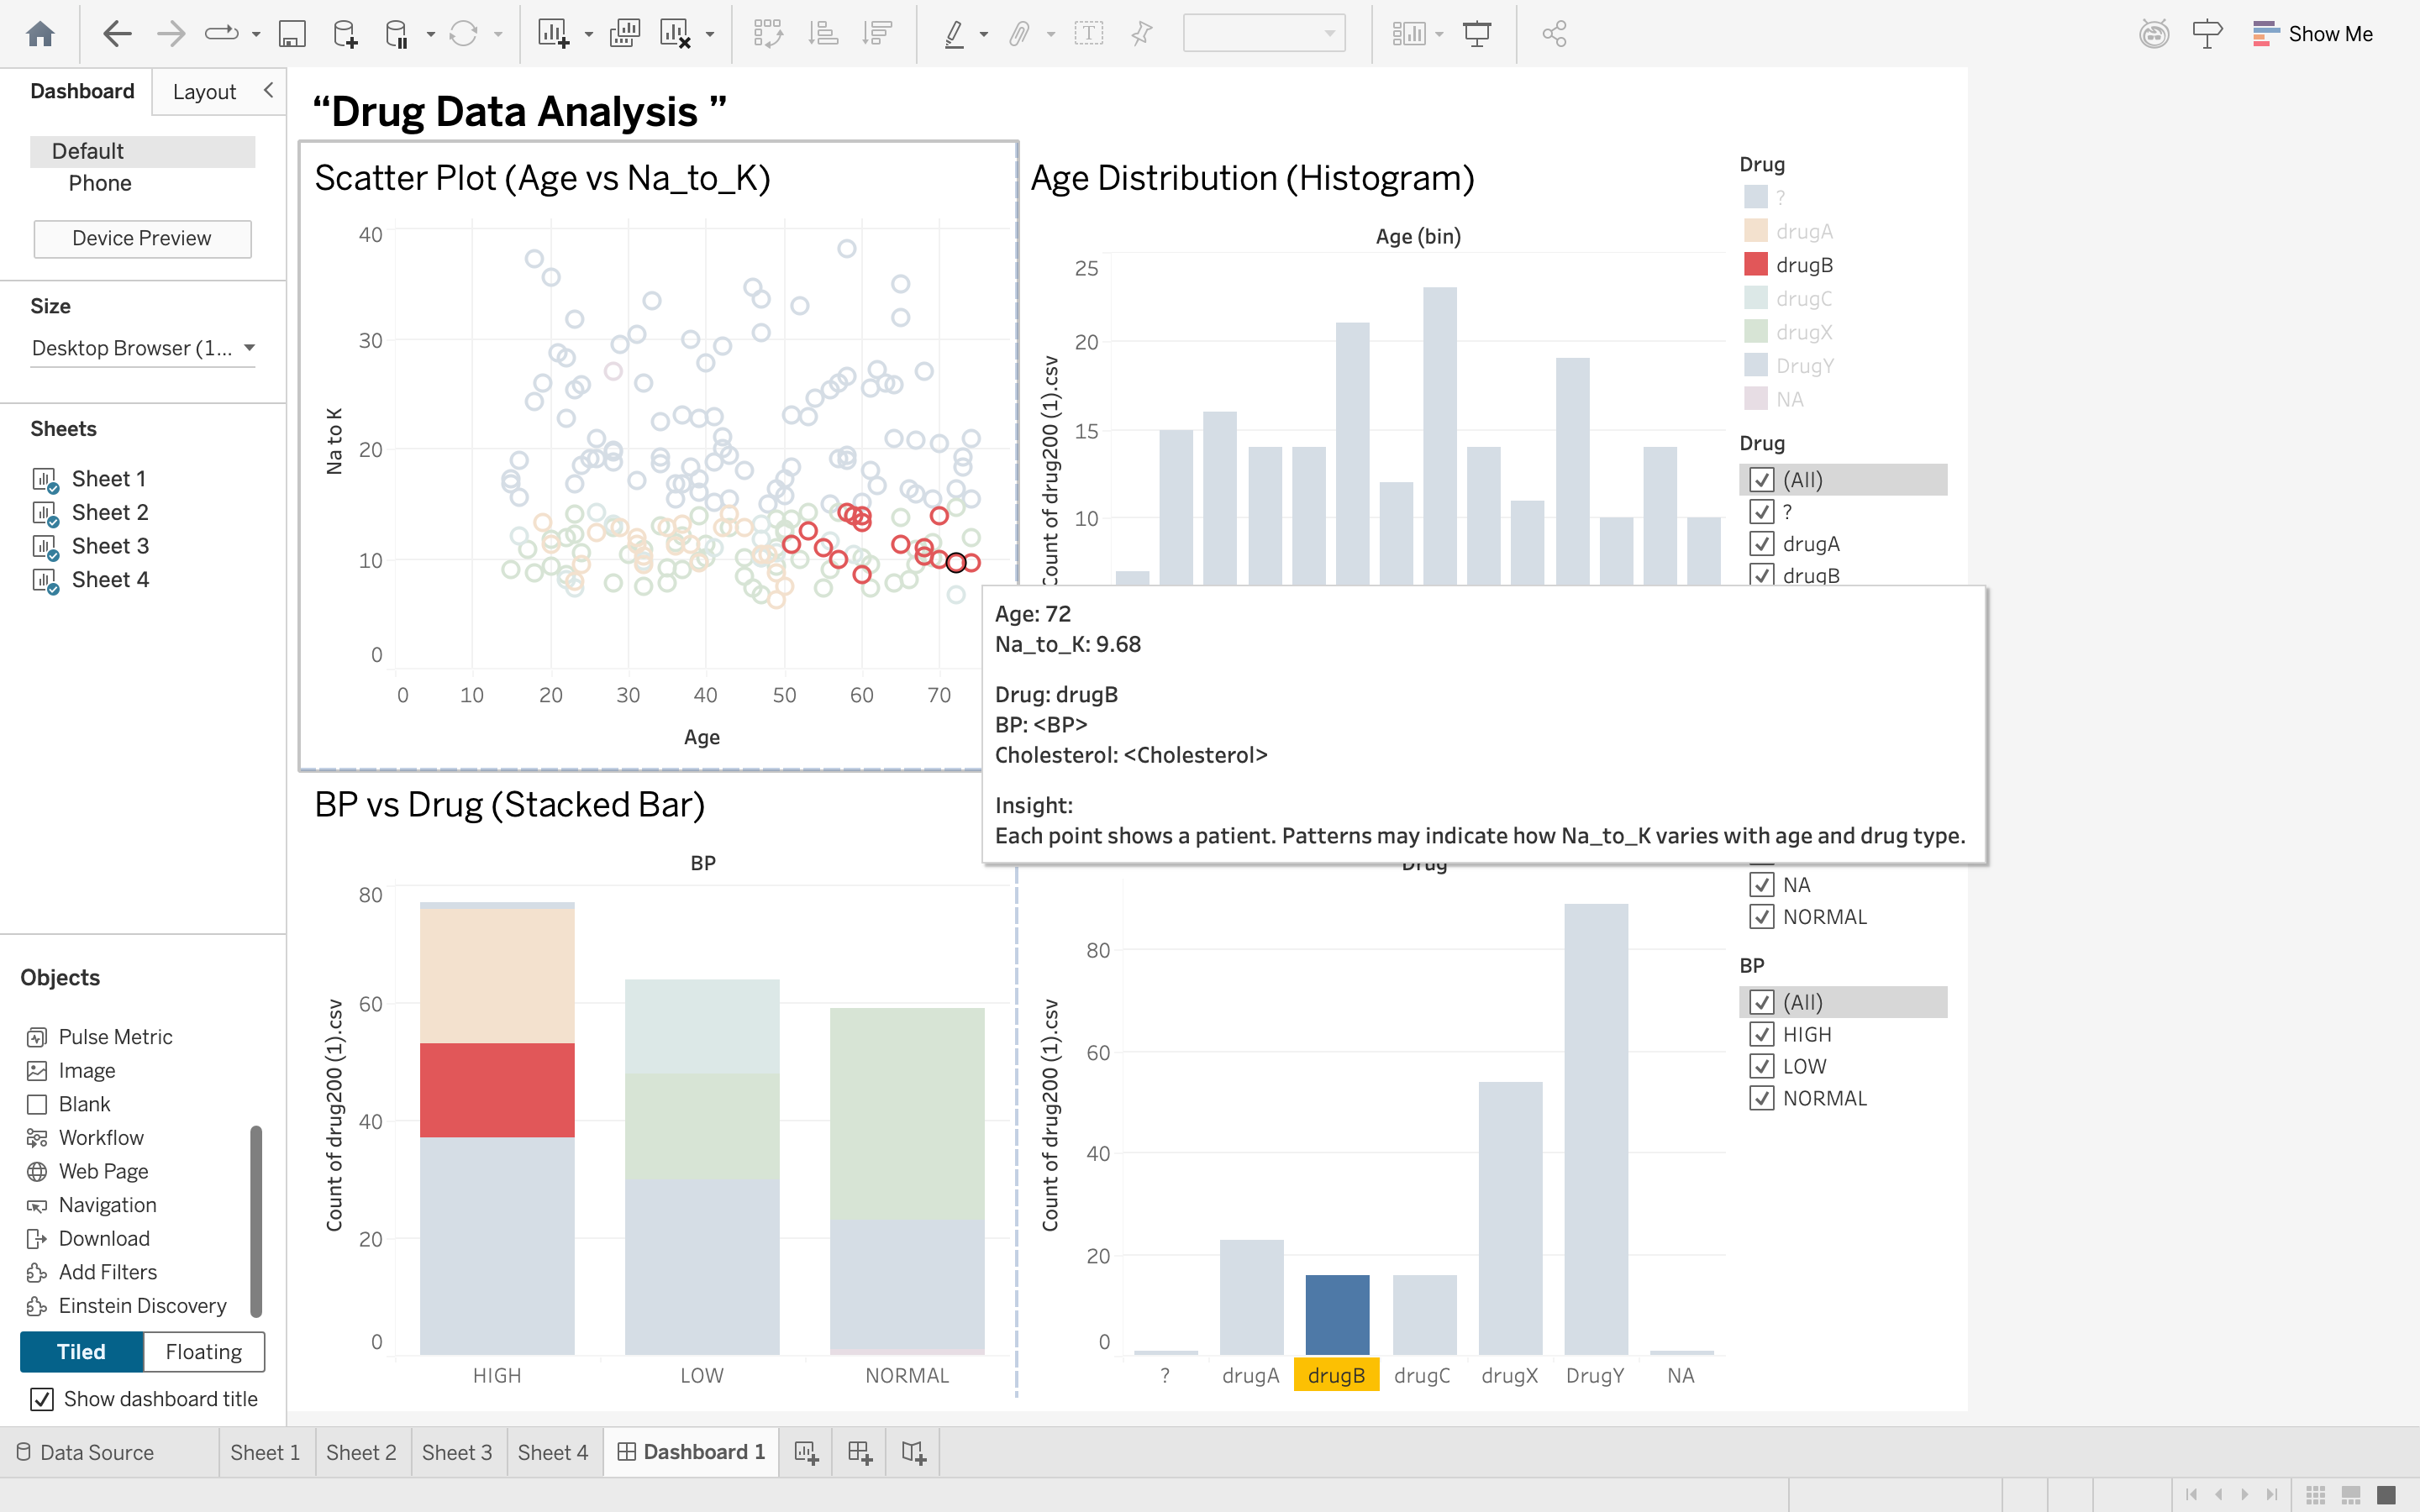

The dashboard page shown, as its layout file describes it:
{"tool":"tableau","page":{"name":"Dashboard 1","canvas":[1000,800],"ordinal":0},"visuals":[{"type":"title","box":[8,8,984,37]},{"type":"worksheet","title":"Sheet 4","mark":"Automatic","rows":["Na_to_K"],"cols":["Age"],"box":[8,45,426,373.5]},{"type":"worksheet","title":"Sheet 3","mark":"Automatic","rows":["drug200 (1).csv_AA0C963CF9534E9084CA0C074F5DABD5"],"cols":["Age (bin)"],"box":[434,45,426,373.5]},{"type":"legend","title":"Sheet 4","param":"[federated.0yvx1i319t8reb1bow4qh1xm6ua2].[none:Drug:nk]","box":[860,45,132,166]},{"type":"filter","title":"Sheet 1","param":"[federated.0yvx1i319t8reb1bow4qh1xm6ua2].[none:Drug:nk]","box":[860,211,132,184]},{"type":"filter","title":"Sheet 2","param":"[federated.0yvx1i319t8reb1bow4qh1xm6ua2].[none:Cholesterol:nk]","box":[860,395,132,127]},{"type":"worksheet","title":"Sheet 2","mark":"Automatic","rows":["drug200 (1).csv_AA0C963CF9534E9084CA0C074F5DABD5"],"cols":["BP"],"box":[8,418.5,426,373.5]},{"type":"worksheet","title":"Sheet 1","mark":"Automatic","rows":["drug200 (1).csv_AA0C963CF9534E9084CA0C074F5DABD5"],"cols":["Drug"],"box":[434,418.5,426,373.5]},{"type":"filter","title":"Sheet 2","param":"[federated.0yvx1i319t8reb1bow4qh1xm6ua2].[none:BP:nk]","box":[860,522,132,108]}]}

Visuals, with their boxes on the page's 1000x800 design canvas (x1, y1, x2, y2). These are canvas units, not pixel positions in the 2420x1512 screenshot, which may show the page scaled, cropped or inside an application window:
title: {"x1": 8, "y1": 8, "x2": 992, "y2": 45}
"Sheet 4" worksheet: {"x1": 8, "y1": 45, "x2": 434, "y2": 418}
"Sheet 3" worksheet: {"x1": 434, "y1": 45, "x2": 860, "y2": 418}
"Sheet 4" legend: {"x1": 860, "y1": 45, "x2": 992, "y2": 211}
"Sheet 1" filter: {"x1": 860, "y1": 211, "x2": 992, "y2": 395}
"Sheet 2" filter: {"x1": 860, "y1": 395, "x2": 992, "y2": 522}
"Sheet 2" worksheet: {"x1": 8, "y1": 418, "x2": 434, "y2": 792}
"Sheet 1" worksheet: {"x1": 434, "y1": 418, "x2": 860, "y2": 792}
"Sheet 2" filter: {"x1": 860, "y1": 522, "x2": 992, "y2": 630}
